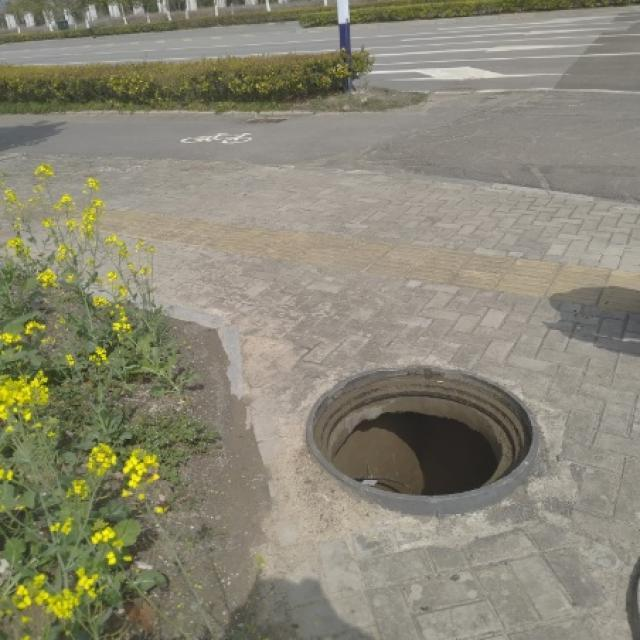Faulty: (296, 354, 558, 535)
